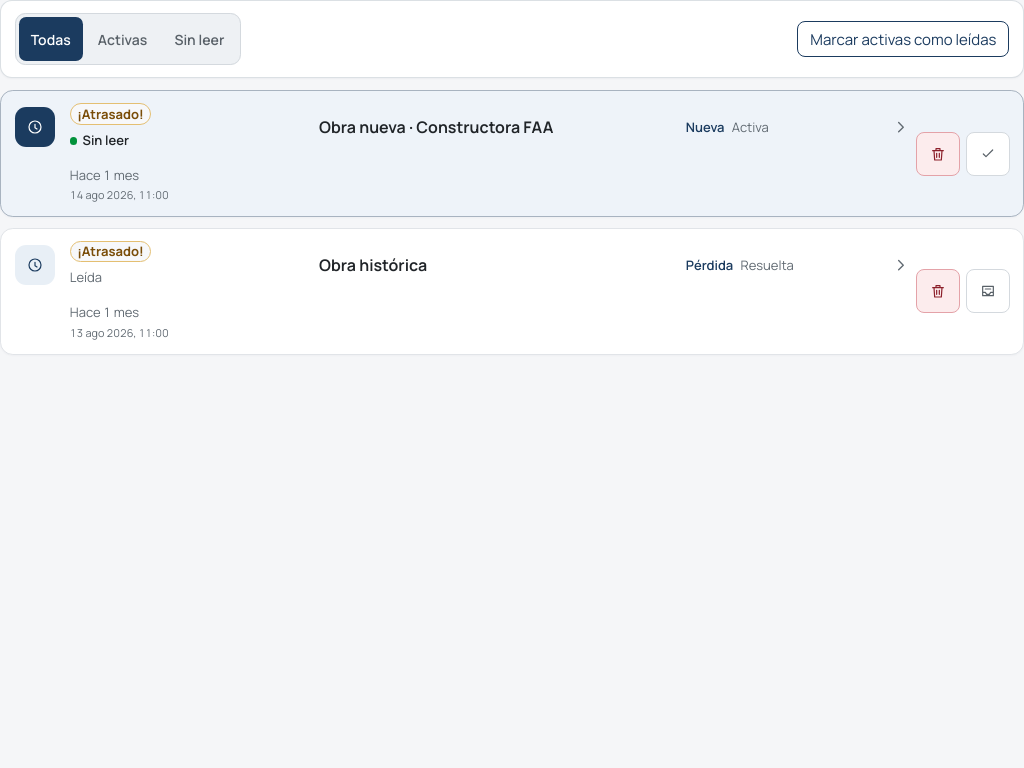
Test: NotificationsPage › keeps the confirmation open with a retryable error when global deletion fails
The width and height of the screenshot is (1024, 768).
Click the button named "Eliminar notificación: ¡Atrasado! · Obra nueva · Constructora FAA" at (938, 154), box x1=916 y1=132 x2=960 y2=176
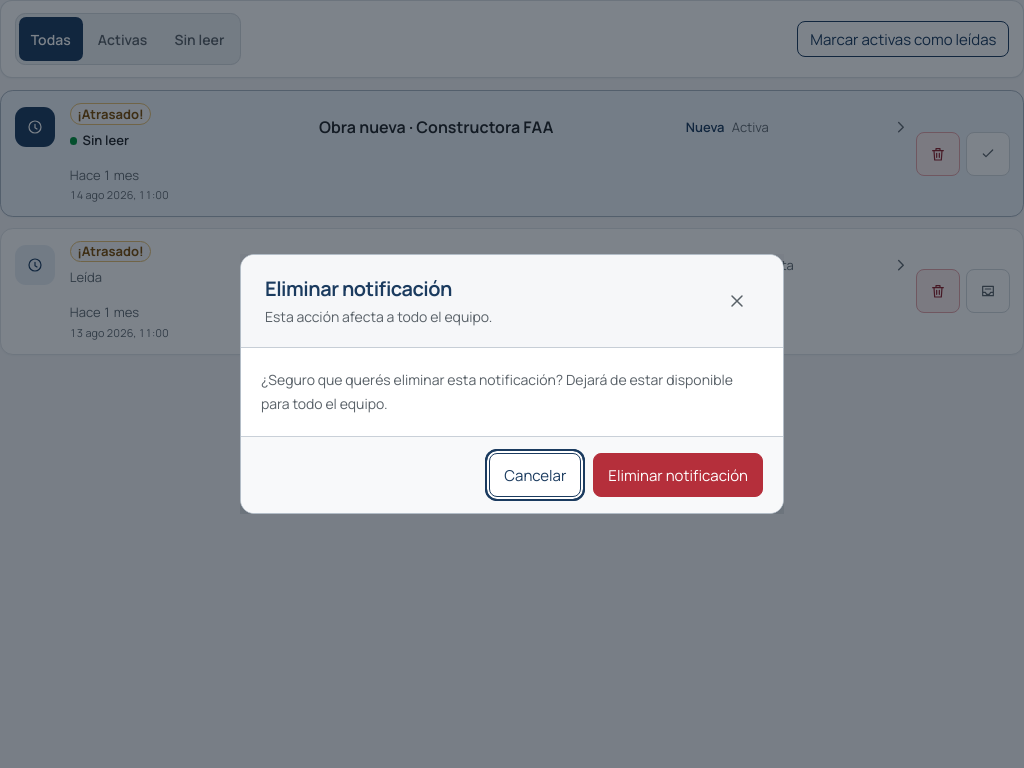
Click the button "Eliminar notificación" at (678, 475), box x1=593 y1=453 x2=763 y2=497
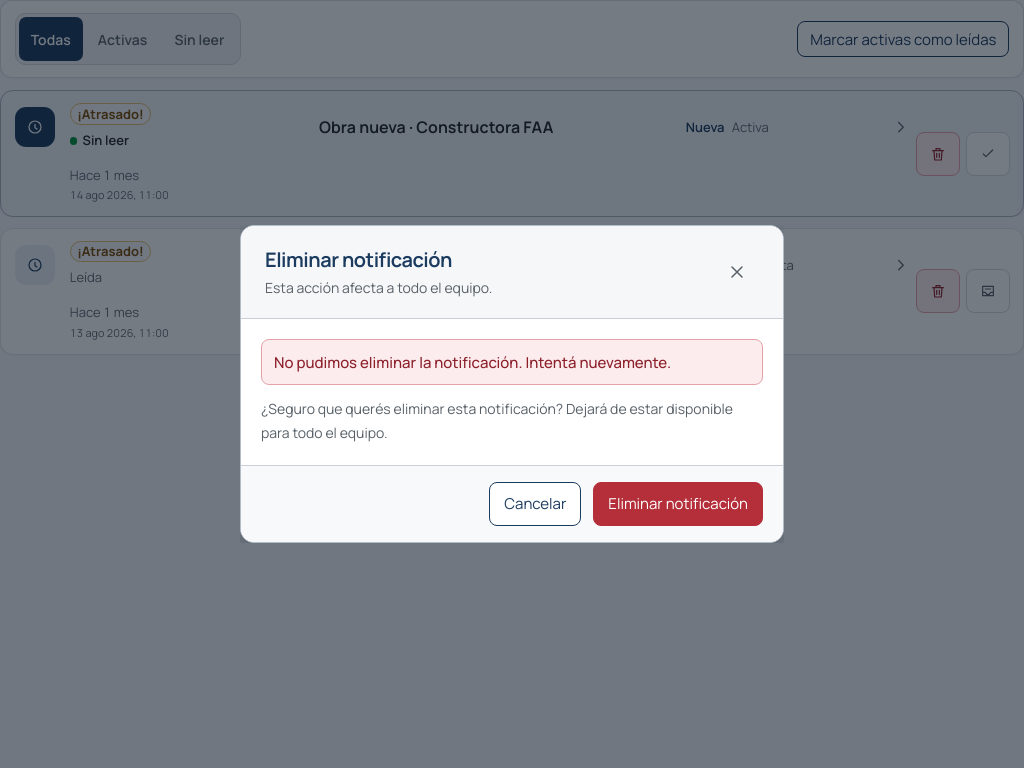
Now the dialog "Eliminar notificación" is shown, box x1=240 y1=225 x2=784 y2=543
Now the button "Eliminar notificación" is enabled, box x1=593 y1=482 x2=763 y2=526
Now the message shows "No pudimos eliminar la notificación", box x1=274 y1=352 x2=671 y2=372
